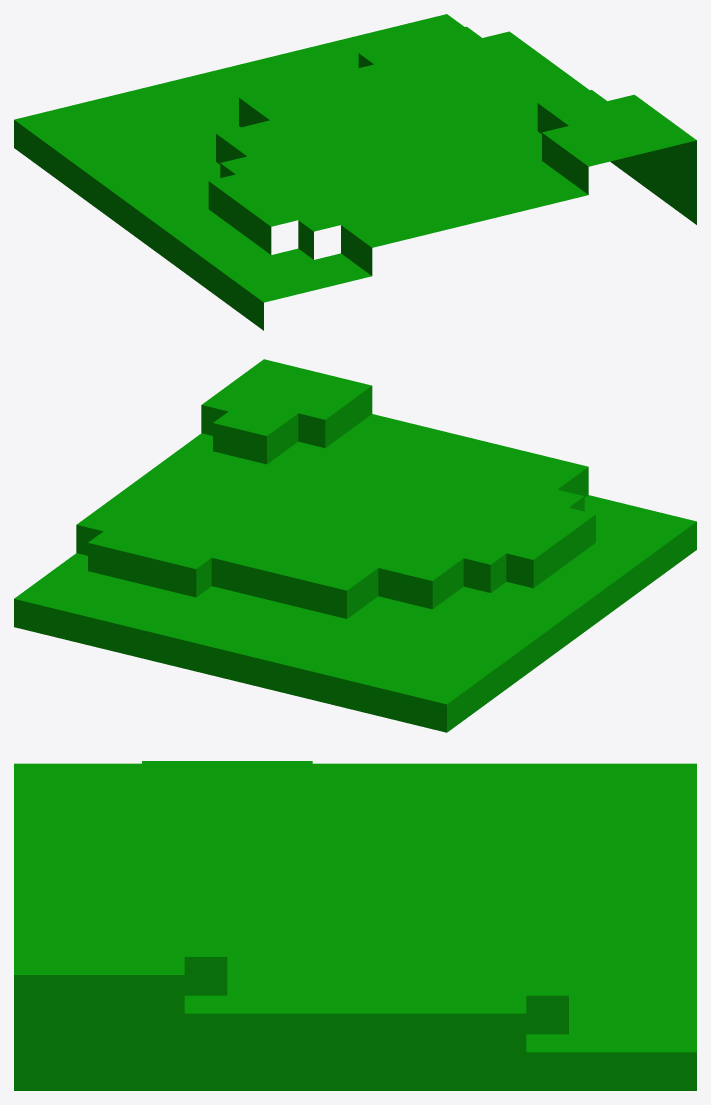
The model's file is Corner11.fbx.
3 views of the same model, one above another, from view 1: azimuth 30°, elevation 25°; view 2: azimuth 150°, elevation 25°; view 3: azimuth 270°, elevation 25° (orthographic). The views are drawn at different scales.
Visible parts, largest first — view 1: Matrix; view 2: Matrix; view 3: Matrix.
Boxes of the visible parts, x1,y1,x2,y2 form: Matrix: (14,14,696,330); Matrix: (14,359,696,732); Matrix: (14,761,696,1090).
Size of the model in its own units: 16 by 3 by 16.
Materials: 1 (1 with a texture image).
